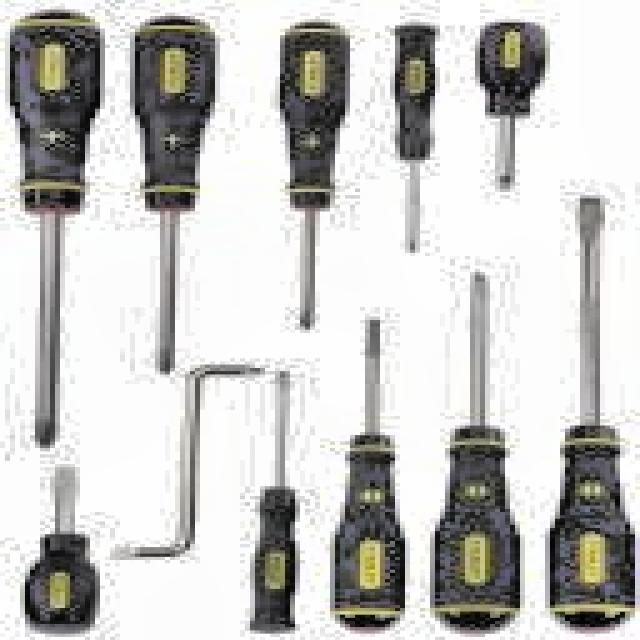screwdriver: (546, 195, 640, 636), (11, 8, 103, 450), (432, 272, 523, 636), (127, 14, 215, 374), (331, 318, 406, 634), (281, 21, 352, 330), (248, 372, 304, 634), (20, 466, 102, 634), (474, 20, 552, 190), (395, 22, 438, 253)
